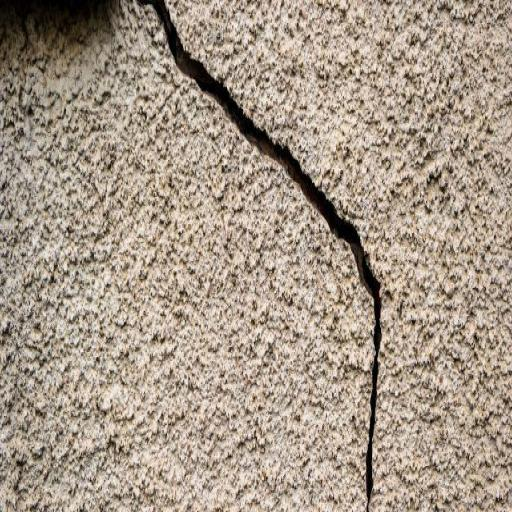spalling: (138, 8, 389, 512)
